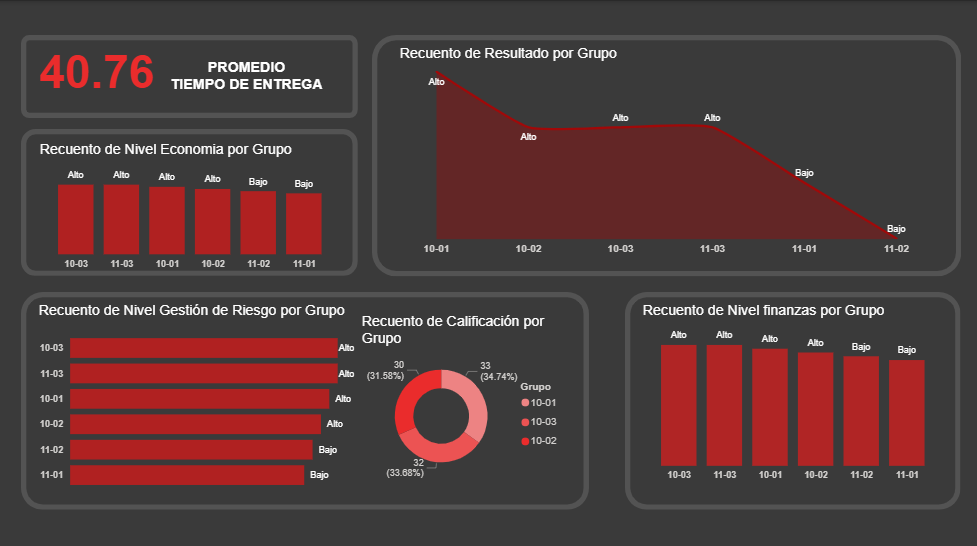

This screenshot's page, from the dashboard's own definition file:
{"tool":"powerbi","page":{"name":"Página 1","canvas":[1280,720],"ordinal":0},"visuals":[{"type":"shape","box":[146.1,374.6,1107,346],"z":0},{"type":"clusteredColumnChart","fields":{"Y":["CountNonNull(Datos_Modelados.Hora de entrega)"],"Category":["Datos_Modelados.Grupo"]},"box":[813,149.5,440.1,210],"z":1000},{"type":"stackedAreaChart","fields":{"Category":["Datos_Modelados.Grupo"],"Y":["CountNonNull(Datos_Modelados.Hora de entrega)"]},"box":[159.6,149.5,638.3,210],"z":2000},{"type":"donutChart","fields":{"Category":["Datos_Modelados.Grupo"],"Series":["Datos_Modelados.Resultado"],"Y":["CountNonNull(Datos_Modelados.Resultado)"]},"box":[860.1,396.4,341,302.4],"z":3000},{"type":"treemap","fields":{"Group":["Datos_Modelados.Grupo"],"Details":["Datos_Modelados.Resultado"],"Values":["CountNonNull(Datos_Modelados.Resultado)"]},"box":[198.2,396.4,638.3,302.4],"z":4000},{"type":"shape","box":[0,0,146.1,720.6],"z":4001},{"type":"textbox","box":[159.6,0,1093.5,136.1],"z":4002},{"type":"shape","box":[0,0,146.1,223.4],"z":4004},{"type":"shape","box":[0,497.2,146.1,223.4],"z":4005},{"type":"shape","box":[0,223.4,146.1,273.8],"z":4006}]}

Visuals, with their boxes in screenshot pixels (x1, y1, x2, y2), scaled from the page's 1280x720 canvas onto the 977x546 screenshot:
shape: l=112, t=284, r=956, b=545
clusteredColumnChart - CountNonNull(Datos_Modelados.Hora de entrega) x Datos_Modelados.Grupo: l=621, t=113, r=956, b=273
stackedAreaChart - Datos_Modelados.Grupo x CountNonNull(Datos_Modelados.Hora de entrega): l=122, t=113, r=609, b=273
donutChart - Datos_Modelados.Grupo x Datos_Modelados.Resultado: l=656, t=301, r=917, b=530
treemap - Datos_Modelados.Grupo x Datos_Modelados.Resultado: l=151, t=301, r=638, b=530
shape: l=0, t=0, r=112, b=545
textbox: l=122, t=0, r=956, b=103
shape: l=0, t=0, r=112, b=169
shape: l=0, t=377, r=112, b=545
shape: l=0, t=169, r=112, b=377
